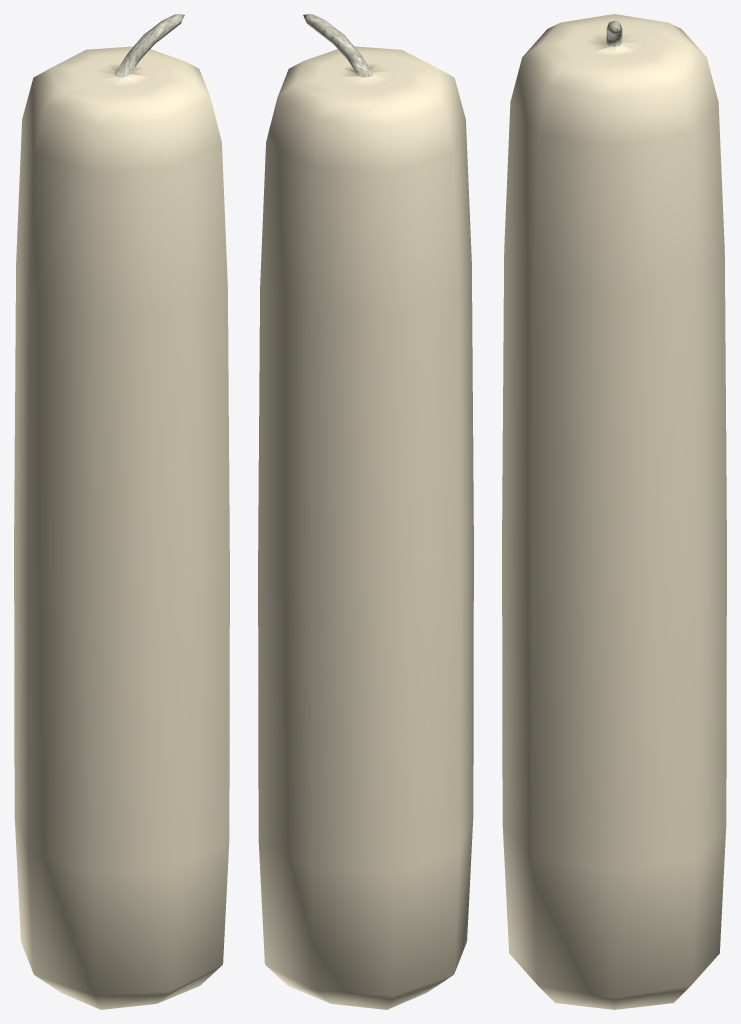
The model's file is Vela_apagado.fbx.
The picture shows the model from 3 angles, left to right: view 1: azimuth 30°, elevation 25°; view 2: azimuth 150°, elevation 25°; view 3: azimuth 270°, elevation 25°; orthographic projection. The views are drawn at different scales.
Parts seen in each view (by area): view 1: Vela_02; view 2: Vela_02; view 3: Vela_02.
Boxes of the visible parts, left/top/right/bottom form: Vela_02: left=14, top=14, right=229, bottom=1009; Vela_02: left=258, top=14, right=473, bottom=1009; Vela_02: left=502, top=14, right=726, bottom=1009.
Bounding box in the file's own units: 85.88 × 416 × 85.88.
